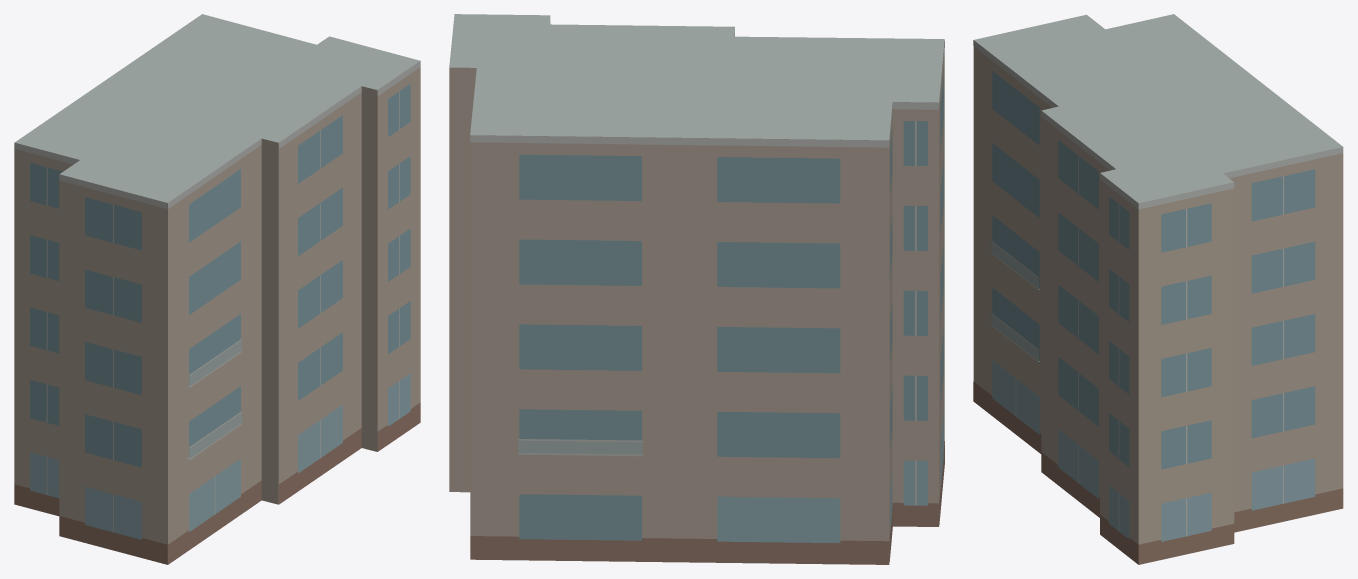
File: survey-upis-32666580.glb
3 views of the same model, side by side, from view 1: azimuth 30°, elevation 25°; view 2: azimuth 150°, elevation 25°; view 3: azimuth 270°, elevation 25° (orthographic). The views are drawn at different scales.
Visible parts, largest first — view 1: survey-upis-32666580.tmp; view 2: survey-upis-32666580.tmp; view 3: survey-upis-32666580.tmp.
Boxes of the visible parts, x1,y1,x2,y2 form: survey-upis-32666580.tmp: (14,14,420,564); survey-upis-32666580.tmp: (449,14,944,564); survey-upis-32666580.tmp: (973,14,1343,564).
Bounding box in the file's own units: 16.07 × 14.3 × 13.27.
